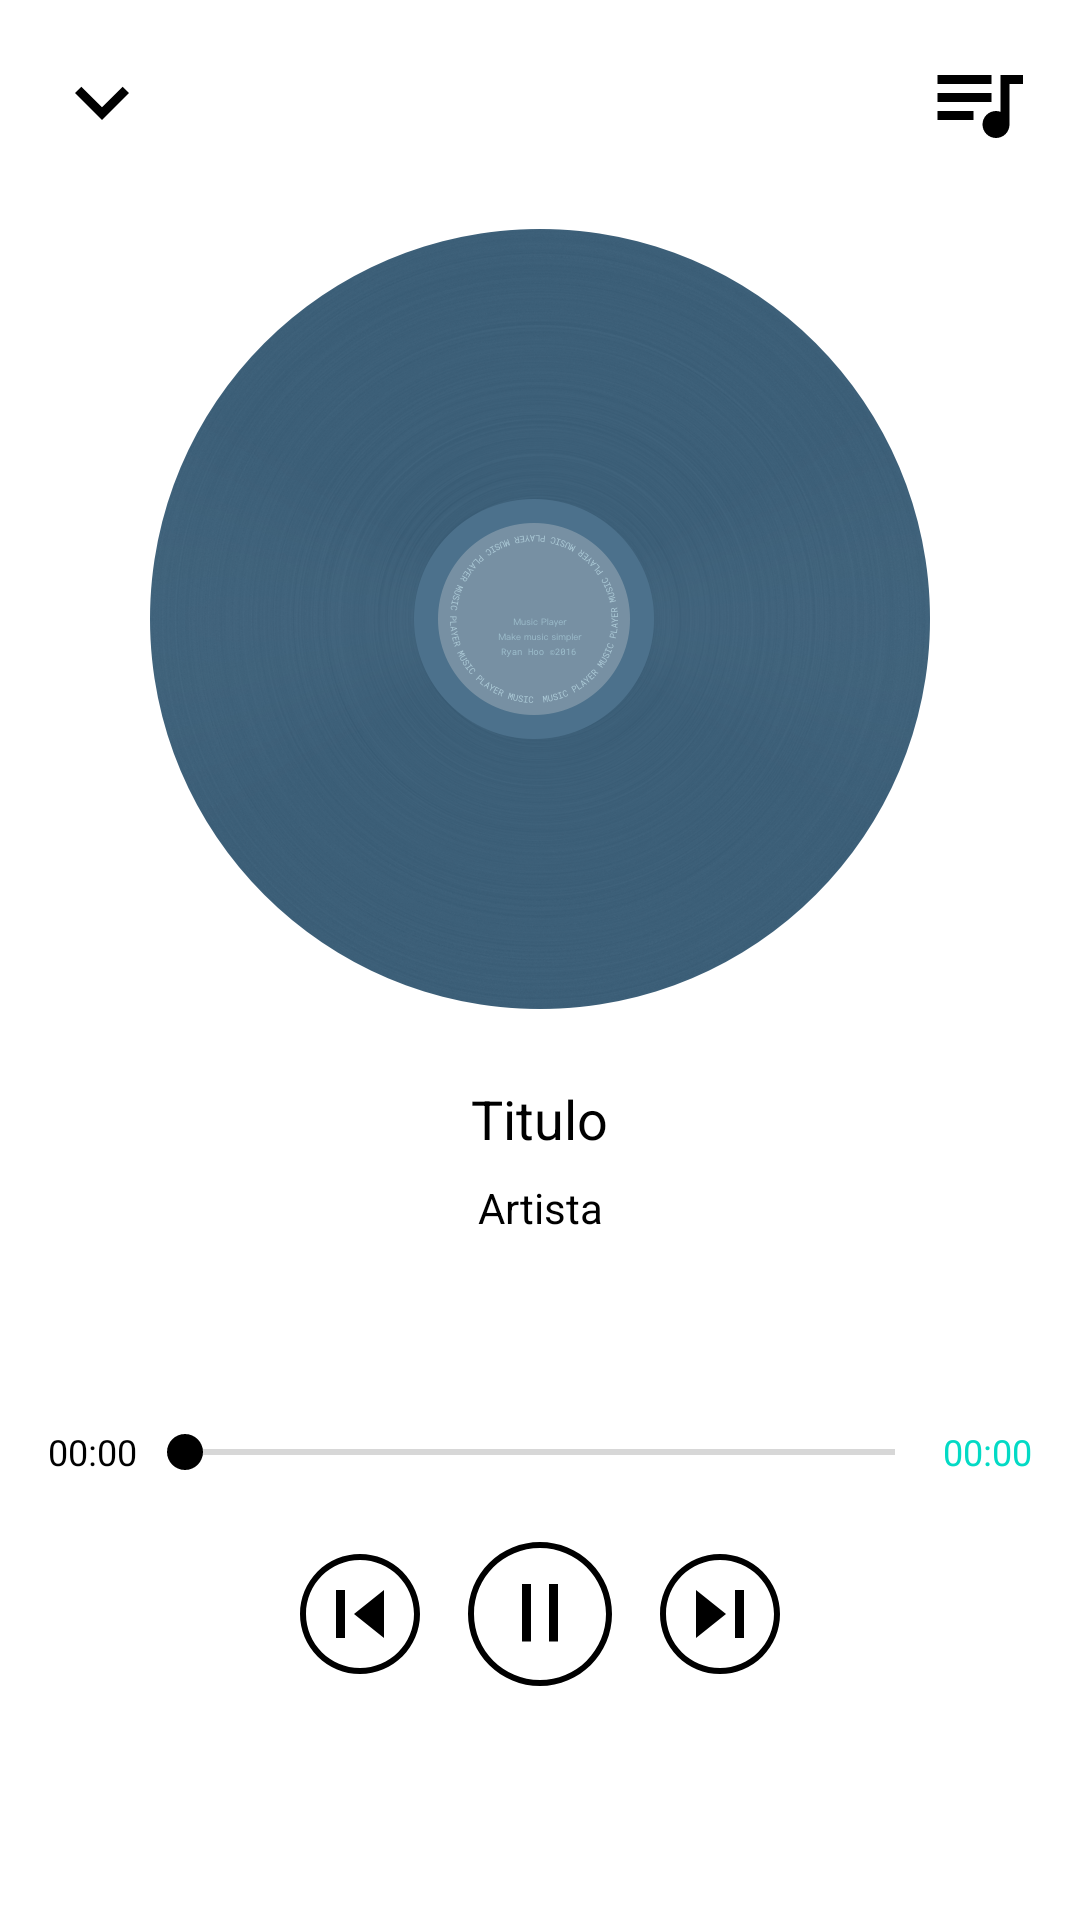

Point at icon controls on the screen. Image size 1080x1920, points as [x,y].
keyboard arrow down: [102,103]
pause: [540,1614]
play last: [360,1614]
play next: [720,1614]
queue music: [980,106]
